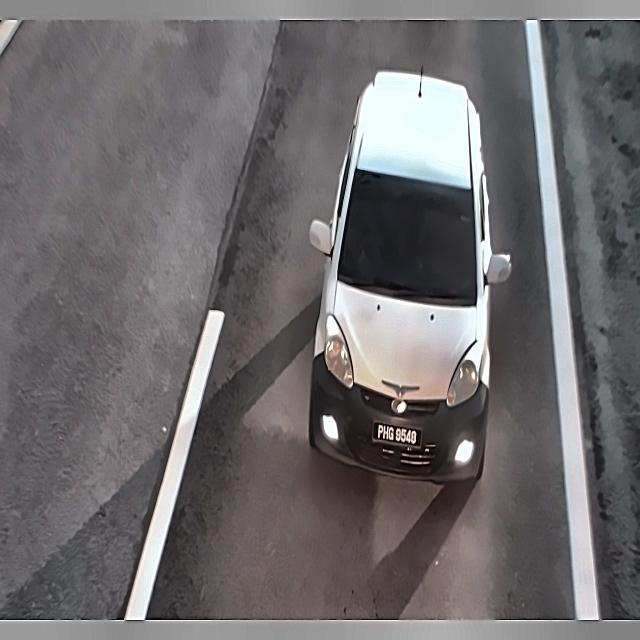car: (368, 413, 429, 453)
